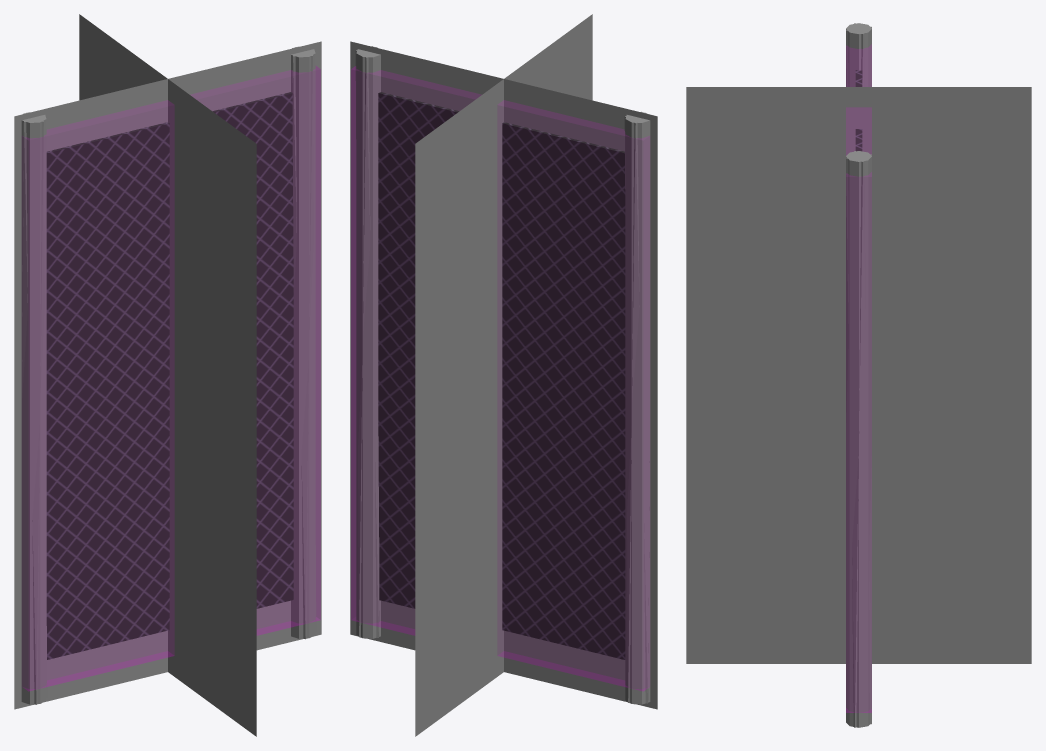
File: chainlink_gate_1m.dae
3 renders of one model, left to right at view 1: azimuth 30°, elevation 25°; view 2: azimuth 150°, elevation 25°; view 3: azimuth 270°, elevation 25°, orthographic. The views are drawn at different scales.
Visible parts, largest first — view 1: Colmesh_gate-1, chainlink_gate_1m_a800, chainlink_gate_1m_a50, chainlink_gate_1m_a200; view 2: chainlink_gate_1m_a800, Colmesh_gate-1, chainlink_gate_1m_a50, chainlink_gate_1m_a200; view 3: chainlink_gate_1m_a50, Colmesh_gate-1, chainlink_gate_1m_a800, chainlink_gate_1m_a200.
Boxes of the visible parts, x1=… form: Colmesh_gate-1: x1=22, y1=66, x2=320, y2=691; chainlink_gate_1m_a800: x1=21, y1=46, x2=315, y2=704; chainlink_gate_1m_a50: x1=14, y1=14, x2=321, y2=736; chainlink_gate_1m_a200: x1=22, y1=48, x2=316, y2=704; chainlink_gate_1m_a800: x1=356, y1=46, x2=650, y2=704; Colmesh_gate-1: x1=351, y1=66, x2=649, y2=691; chainlink_gate_1m_a50: x1=350, y1=14, x2=657, y2=736; chainlink_gate_1m_a200: x1=355, y1=46, x2=649, y2=703; chainlink_gate_1m_a50: x1=686, y1=87, x2=1031, y2=663; Colmesh_gate-1: x1=846, y1=46, x2=871, y2=712; chainlink_gate_1m_a800: x1=846, y1=23, x2=871, y2=727; chainlink_gate_1m_a200: x1=846, y1=23, x2=871, y2=727.
Bounding box in the file's own units: 1.05 × 1.05 × 1.94.
Materials: 3 (1 with a texture image).
